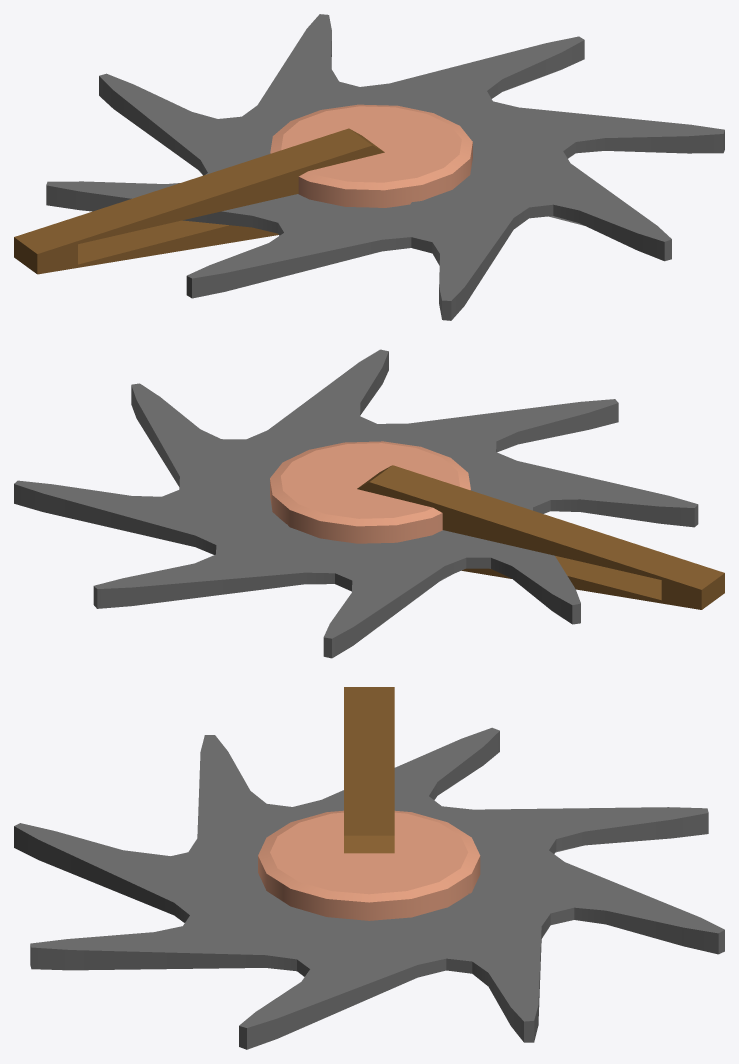
File: BLADE.fbx
3 views of the same model, one above another, from view 1: azimuth 30°, elevation 25°; view 2: azimuth 150°, elevation 25°; view 3: azimuth 270°, elevation 25° (orthographic). The views are drawn at different scales.
Visible parts, largest first — view 1: Cylinder.011, Cube.001; view 2: Cylinder.011, Cube.001; view 3: Cylinder.011, Cube.001.
Boxes of the visible parts, x1,y1,x2,y2 form: Cylinder.011: (46,14,724,320); Cube.001: (14,128,384,274); Cylinder.011: (14,349,698,658); Cube.001: (357,465,724,609); Cylinder.011: (14,727,724,1049); Cube.001: (344,687,394,853).
Bounding box in the file's own units: 1.85 × 0.2038 × 1.63.
